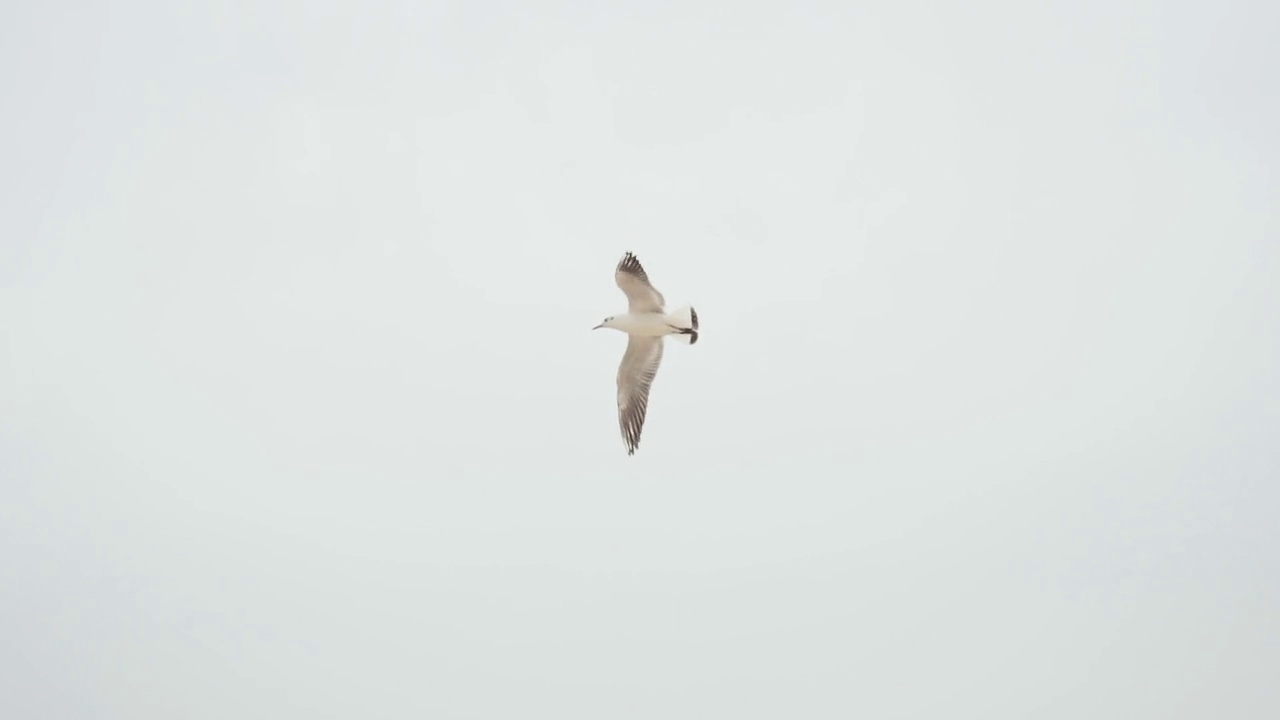bird: (592, 252, 699, 456)
